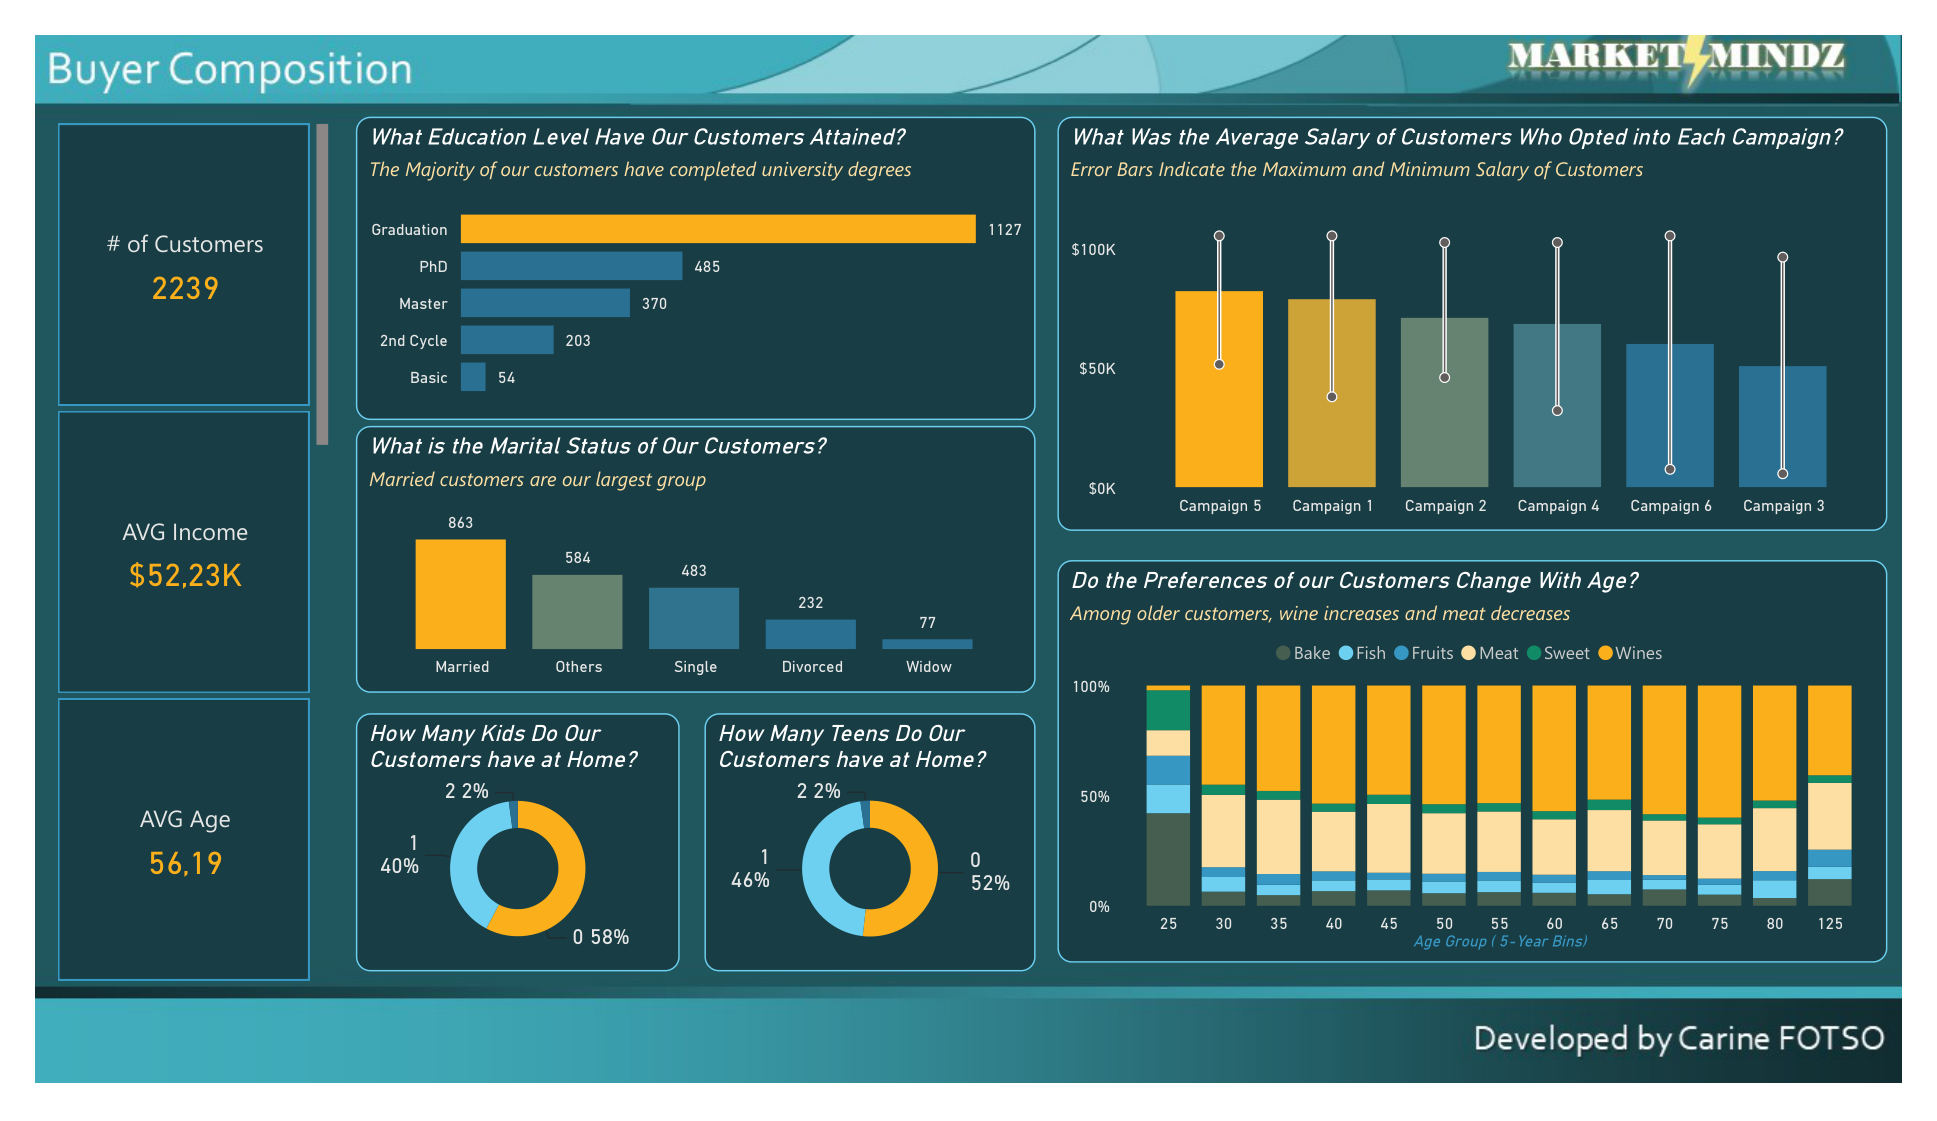

The page's visual inventory and layout, read from the dashboard file:
{"tool":"powerbi","page":{"name":"Buyer Composition","canvas":[1280,720],"ordinal":2},"visuals":[{"type":"barChart","title":"What Education Level Have Our Customers Attained?","fields":{"Category":["Marketing_data.Education"],"Y":["CountNonNull(Marketing_data.ID)"]},"box":[219.8,56.4,465.9,207.2],"z":0},{"type":"clusteredColumnChart","title":"What is the Marital Status of Our Customers?","fields":{"Category":["Marketing_data.Marital_Status"],"Y":["CountNonNull(Marketing_data.ID)"]},"box":[219.8,268.4,465.9,182.9],"z":1000},{"type":"donutChart","title":"How Many Kids Do Our Customers have at Home?","fields":{"Category":["Marketing_data.Kidhome"],"Y":["CountNonNull(Marketing_data.ID)"]},"box":[219.8,464.9,221.8,177],"z":2000},{"type":"donutChart","title":"How Many Teens Do Our Customers have at Home?","fields":{"Category":["Marketing_data.Teenhome"],"Y":["CountNonNull(Marketing_data.ID)"]},"box":[459.1,464.9,226.6,177],"z":3000},{"type":"clusteredColumnChart","title":"What Was the Average Salary of Customers Who Opted into Each Campaign?","fields":{"Category":["Campaign.Campaign"],"Y":["Avg(Marketing_data. Income )"]},"box":[701.3,56.4,569,284],"z":4000},{"type":"hundredPercentStackedColumnChart","title":"Do the Preferences of our Customers Change With Age?","fields":{"Category":["Marketing_data.Age (compartiments)"],"Series":["Products.products"],"Y":["Sum(Products.Total Sales)"]},"box":[701.3,359.9,569,276.2],"z":5000},{"type":"cardVisual","fields":{"Data":["CountNonNull(Marketing_data.ID)","Avg(Marketing_data. Income )","Avg(Marketing_data.Age)","Sum(Marketing_data.Purchases - Deals)","Sum(Marketing_data.Purchases-Stores)","Sum(Marketing_data.Purchases-Catalog)","Sum(Marketing_data.Purchases- Web)","Sum(Marketing_data.Web Visit last Month)"]},"box":[10.7,56.4,195.5,599.1],"z":6000}]}

Visuals, with their boxes in screenshot pixels (x1, y1, x2, y2), scaled from the page's 1280x720 canvas onto the 1937x1121 screenshot:
"What Education Level Have Our Customers Attained?" barChart: [333,88,1038,410]
"What is the Marital Status of Our Customers?" clusteredColumnChart: [333,418,1038,703]
"How Many Kids Do Our Customers have at Home?" donutChart: [333,724,668,999]
"How Many Teens Do Our Customers have at Home?" donutChart: [695,724,1038,999]
"What Was the Average Salary of Customers Who Opted into Each Campaign?" clusteredColumnChart: [1061,88,1922,530]
"Do the Preferences of our Customers Change With Age?" hundredPercentStackedColumnChart: [1061,560,1922,990]
cardVisual - CountNonNull(Marketing_data.ID) x Avg(Marketing_data. Income ): [16,88,312,1021]
